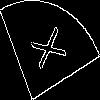X: (24, 25, 67, 76)
